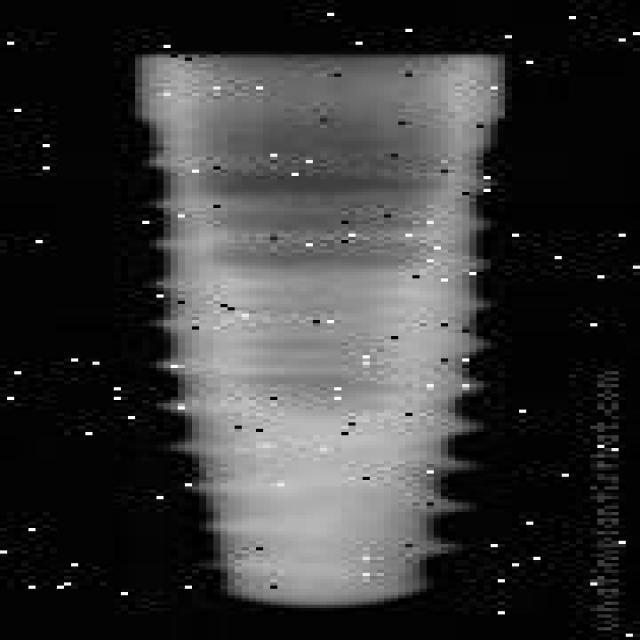Retained root: (130, 54, 505, 613)
